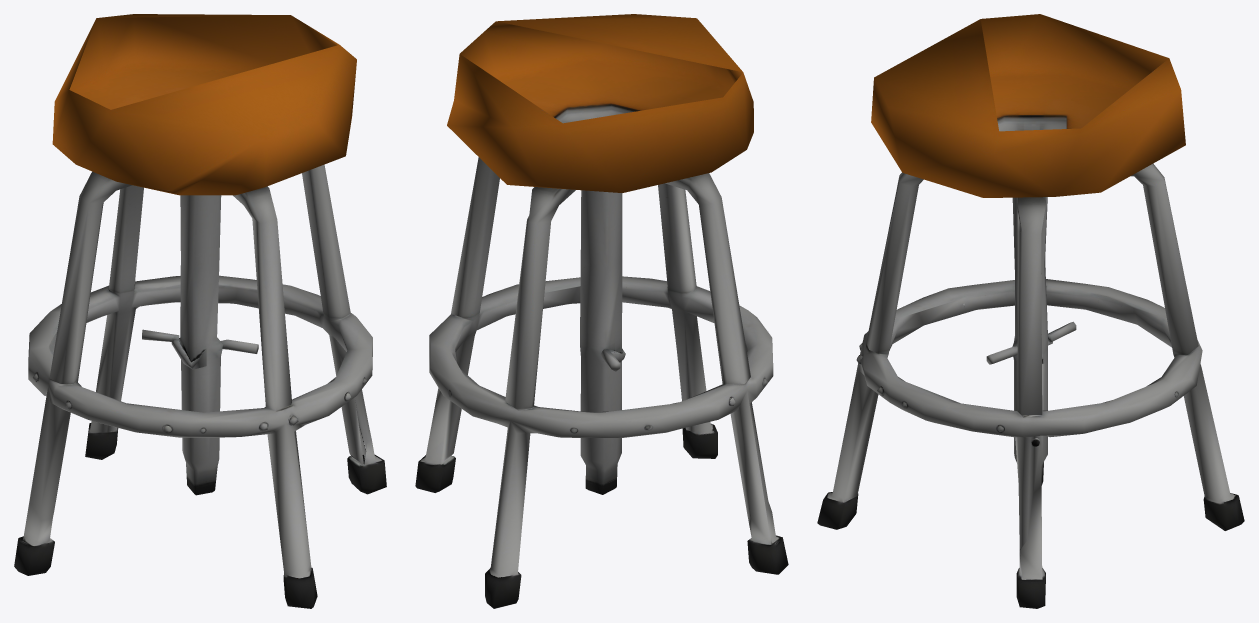
Rendered from corner_stool.glb.
The picture shows the model from 3 angles, left to right: view 1: azimuth 30°, elevation 25°; view 2: azimuth 150°, elevation 25°; view 3: azimuth 270°, elevation 25°; orthographic projection. The views are drawn at different scales.
Visible parts, largest first — view 1: tripo_node_fb479836-faf3-4e67-a53a-1e7308b3b7db; view 2: tripo_node_fb479836-faf3-4e67-a53a-1e7308b3b7db; view 3: tripo_node_fb479836-faf3-4e67-a53a-1e7308b3b7db.
Part boxes in pixels (<box>): tripo_node_fb479836-faf3-4e67-a53a-1e7308b3b7db: <box>14,14,386,608</box>; tripo_node_fb479836-faf3-4e67-a53a-1e7308b3b7db: <box>415,14,788,608</box>; tripo_node_fb479836-faf3-4e67-a53a-1e7308b3b7db: <box>817,14,1244,608</box>.
Bounding box in the file's own units: 0.8063 × 0.9961 × 0.8552.
Materials: 1 (1 with a texture image).
